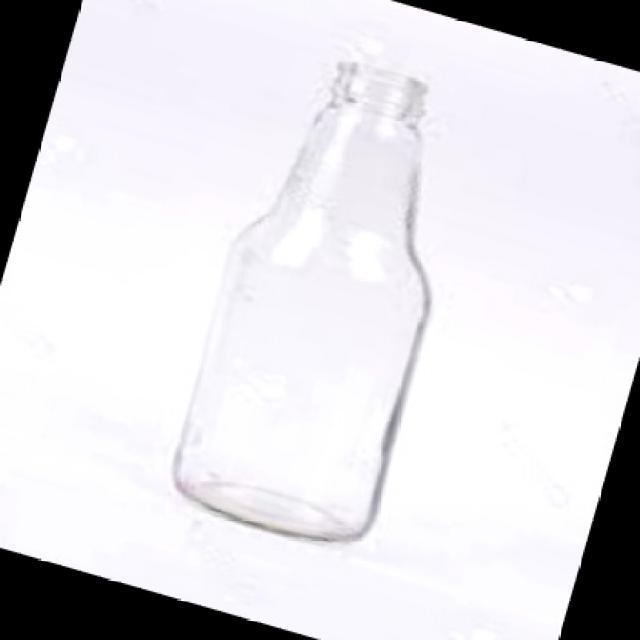Glass: (172, 61, 433, 543)
